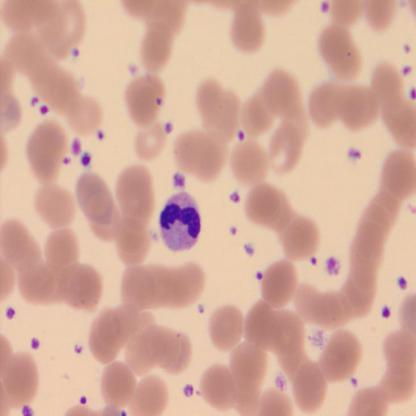Segmented neutrophil: (158, 191, 202, 253)
